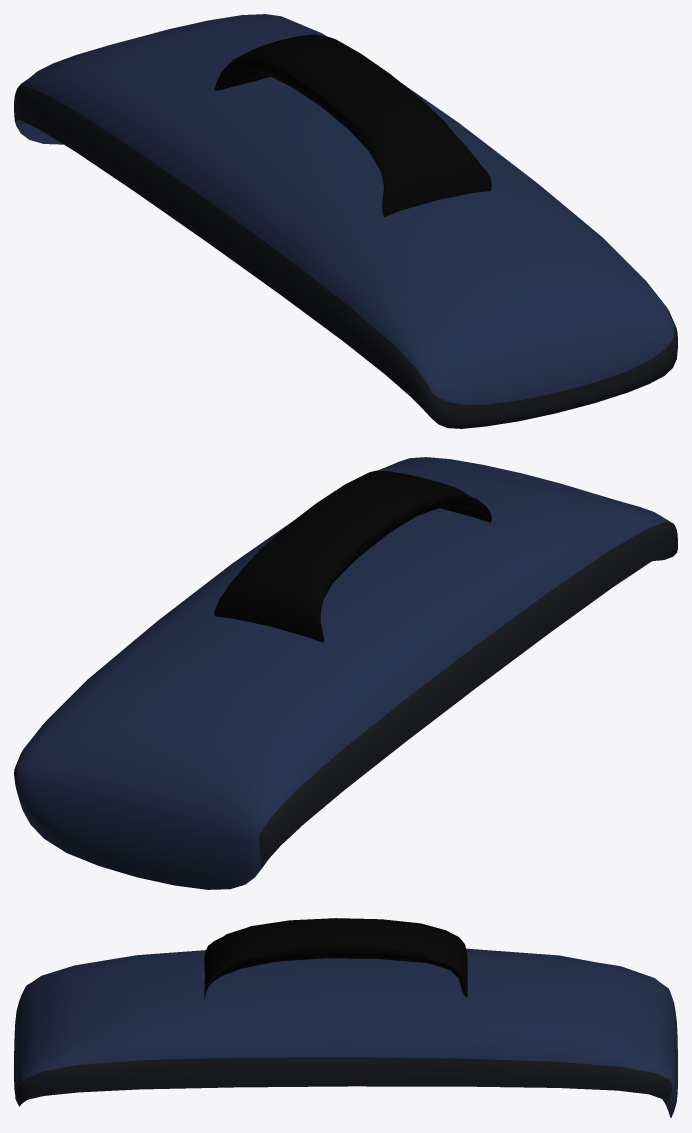
The model's file is Deckel-Tasche fuer Unity.fbx.
3 views of the same model, one above another, from view 1: azimuth 30°, elevation 25°; view 2: azimuth 150°, elevation 25°; view 3: azimuth 270°, elevation 25° (orthographic). The views are drawn at different scales.
Parts seen in each view (by area): view 1: Deckel, Handle; view 2: Deckel, Handle; view 3: Deckel, Handle.
Boxes of the visible parts, bbox=[...] form: Deckel: bbox=[14, 14, 677, 428]; Handle: bbox=[214, 34, 491, 216]; Deckel: bbox=[14, 457, 677, 889]; Handle: bbox=[214, 470, 491, 642]; Deckel: bbox=[14, 948, 677, 1117]; Handle: bbox=[204, 918, 467, 998].
Bounding box in the file's own units: 114 × 86.94 × 310.
